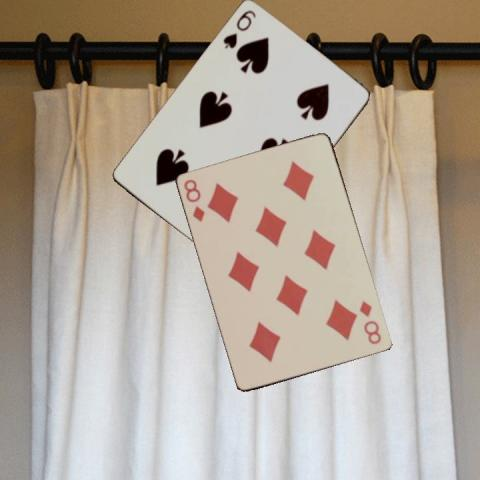6s: (220, 7, 258, 51)
8d: (357, 297, 383, 346), (181, 176, 207, 223)
